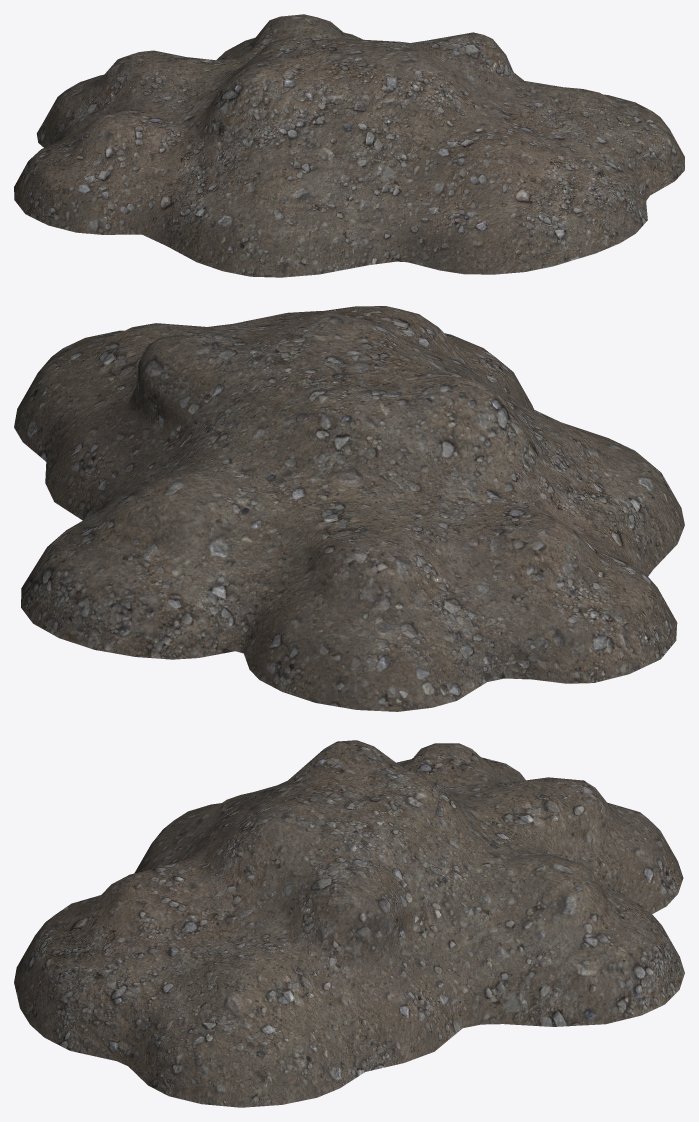
The model's file is cave_floor_bumps_01.dae.
3 views of the same model, one above another, from view 1: azimuth 30°, elevation 25°; view 2: azimuth 150°, elevation 25°; view 3: azimuth 270°, elevation 25° (orthographic). The views are drawn at different scales.
Parts seen in each view (by area): view 1: 01; view 2: 01; view 3: 01.
Boxes of the visible parts, x1=… form: 01: x1=14, y1=14, x2=684, y2=277; 01: x1=14, y1=306, x2=684, y2=711; 01: x1=14, y1=740, x2=684, y2=1107.
Bounding box in the file's own units: 2.71 × 0.5961 × 2.39.
